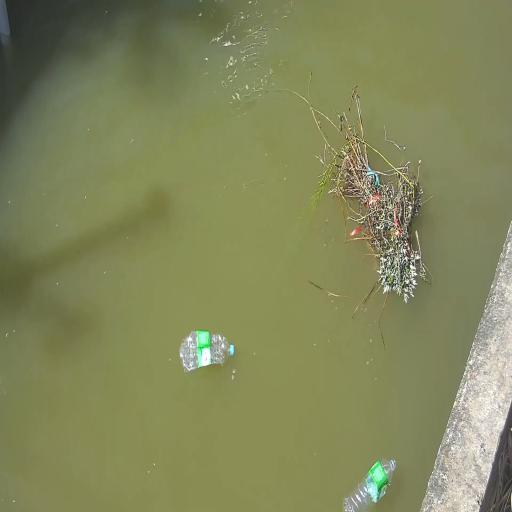plastic: (344, 460, 395, 511), (180, 331, 234, 372)
twig: (286, 73, 429, 344)
